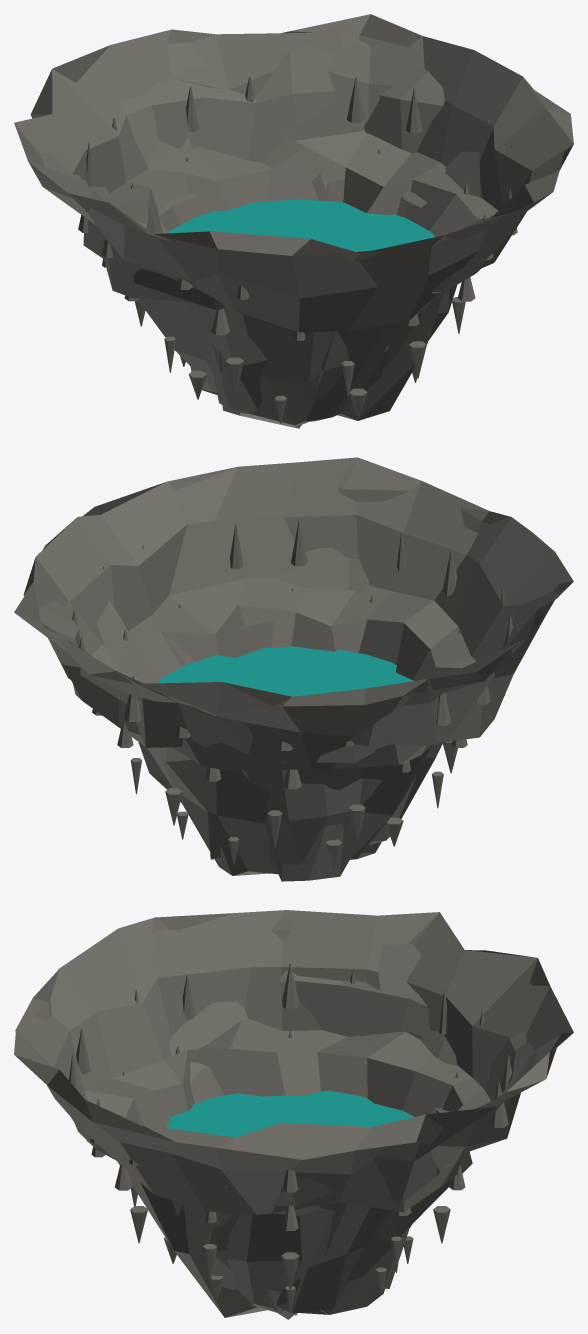
File: cenote-prueba.fbx
3 views of the same model, one above another, from view 1: azimuth 30°, elevation 25°; view 2: azimuth 150°, elevation 25°; view 3: azimuth 270°, elevation 25° (orthographic).
Parts seen in each view (by area): view 1: Cenote_LOD0, Cenote_Agua_Fondo; view 2: Cenote_LOD0, Cenote_Agua_Fondo; view 3: Cenote_LOD0, Cenote_Agua_Fondo.
Part boxes in pixels (<box>): Cenote_LOD0: <box>14,14,573,428</box>; Cenote_Agua_Fondo: <box>167,199,435,251</box>; Cenote_LOD0: <box>14,457,573,881</box>; Cenote_Agua_Fondo: <box>157,646,414,696</box>; Cenote_LOD0: <box>14,910,573,1319</box>; Cenote_Agua_Fondo: <box>166,1090,414,1137</box>.
Size of what is drawn, in the model's own units: 3269 by 1966 by 3342.
